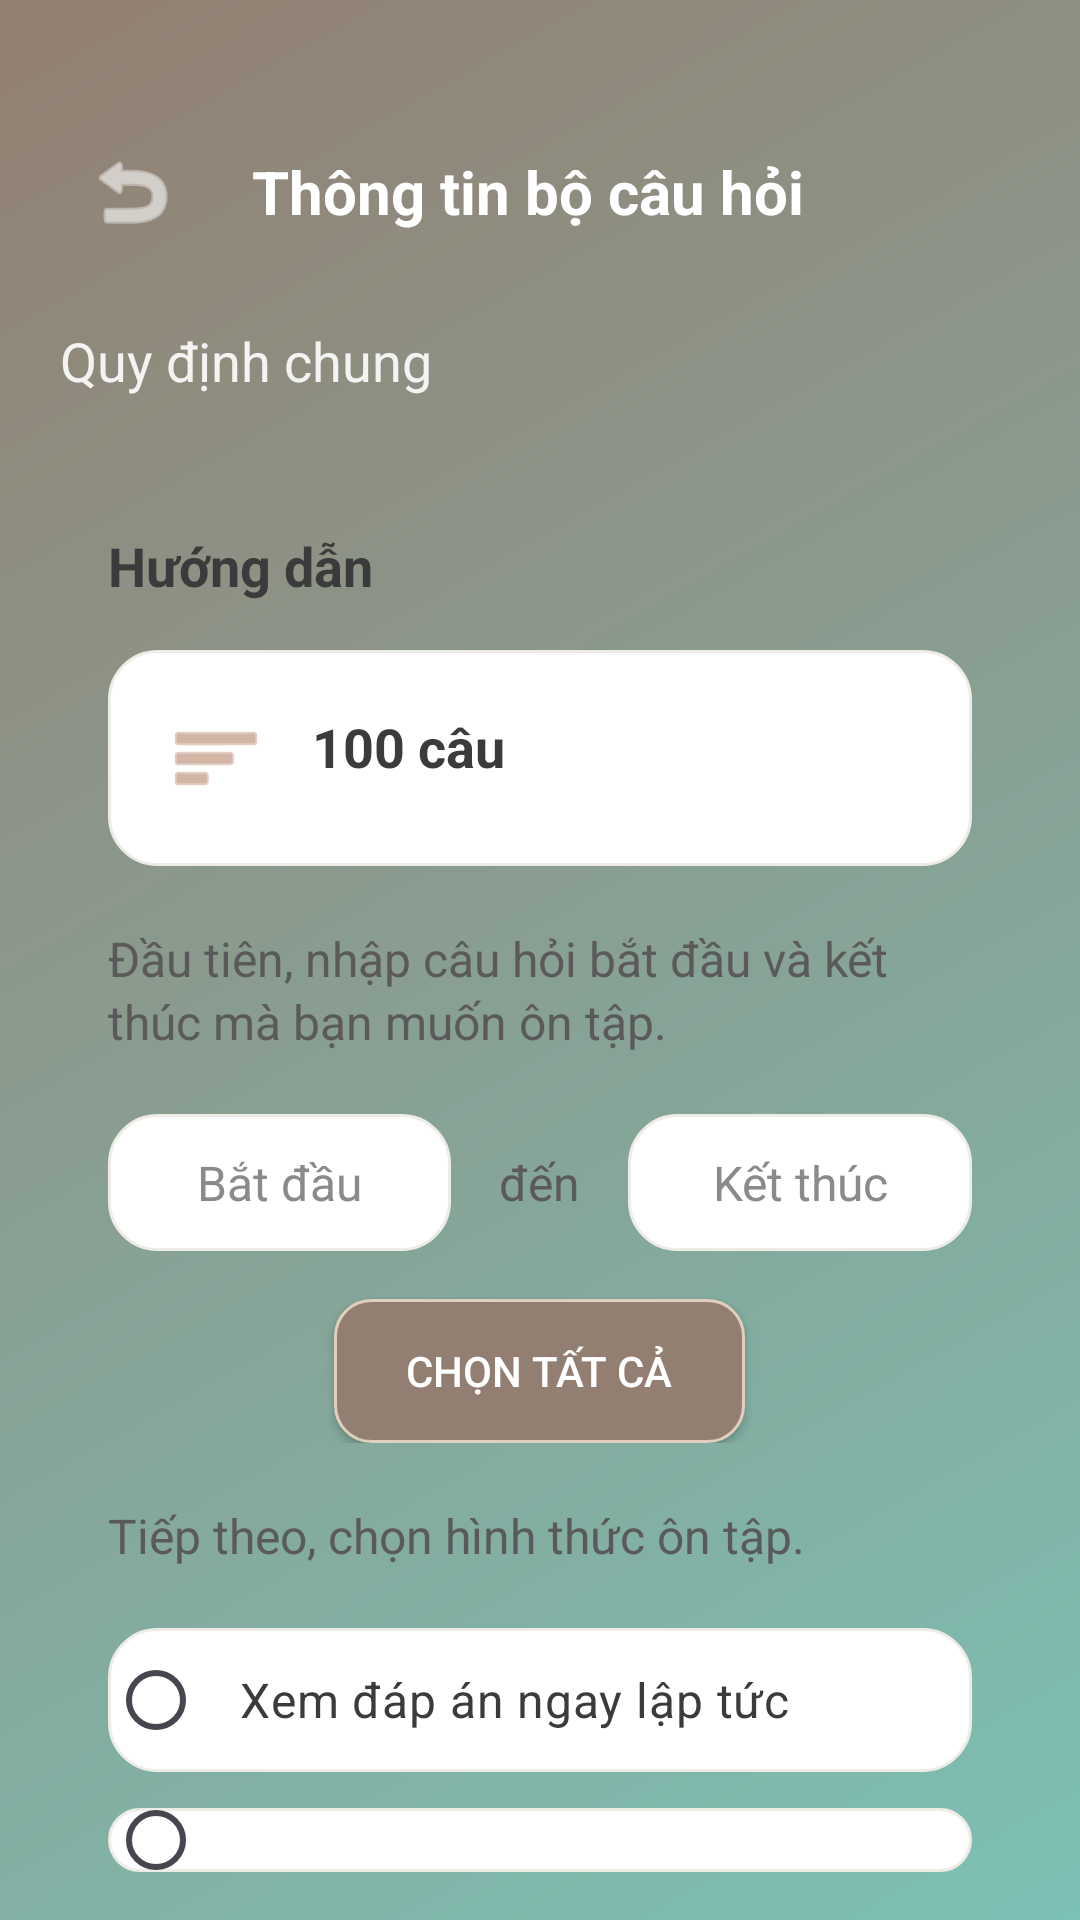

Icon bounding boxes for this 1080 x 1920 phone screenshot, format (x1, y1, x2, y2):
revert: (99, 162, 168, 224)
sort by size: (175, 732, 257, 785)
